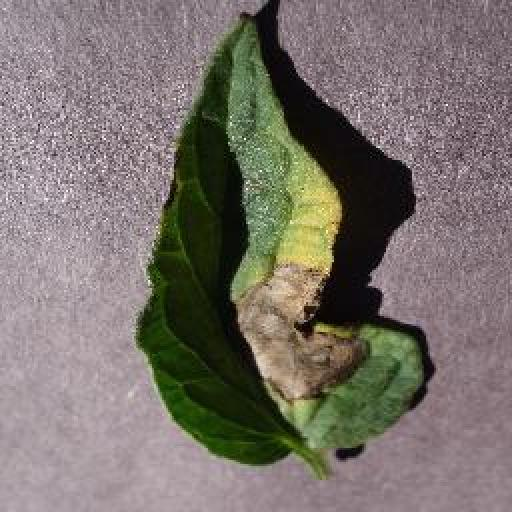disease_tomato: (137, 10, 428, 466)
